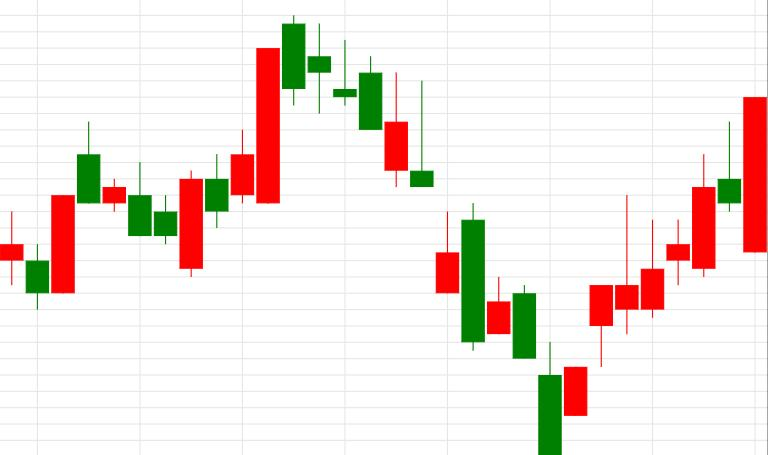shooting_star_fall: (565, 121, 740, 415)
